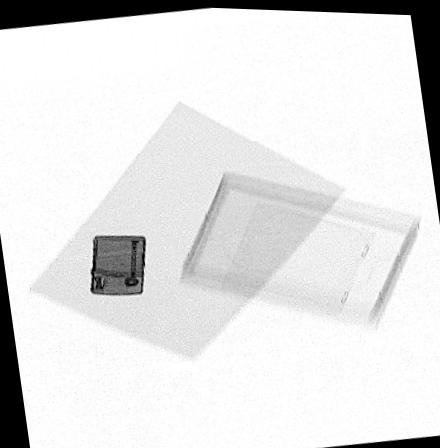Lighter: (88, 233, 145, 294)
